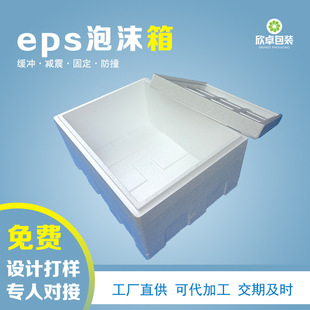Boxes: (55, 75, 281, 256)
